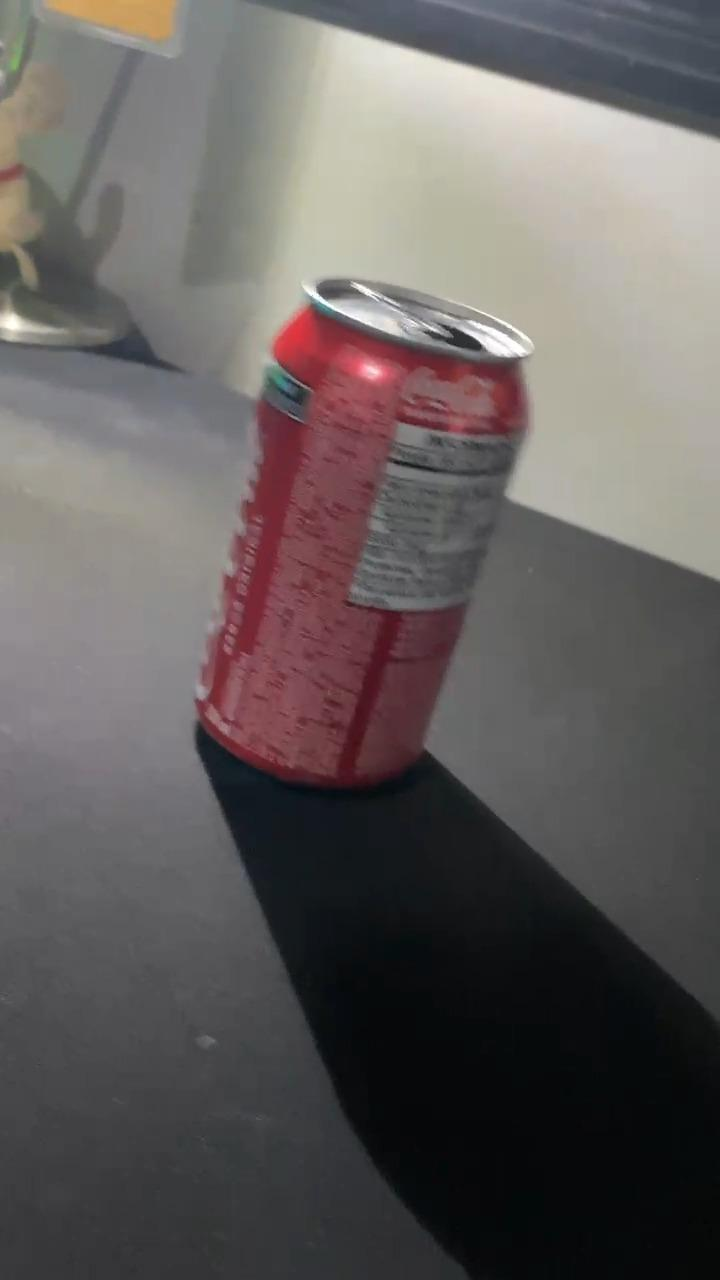coke: (193, 282, 538, 793)
